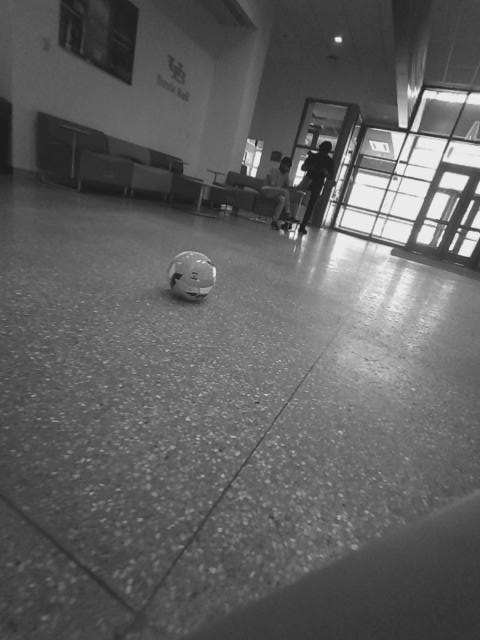ball: (156, 245, 225, 310)
